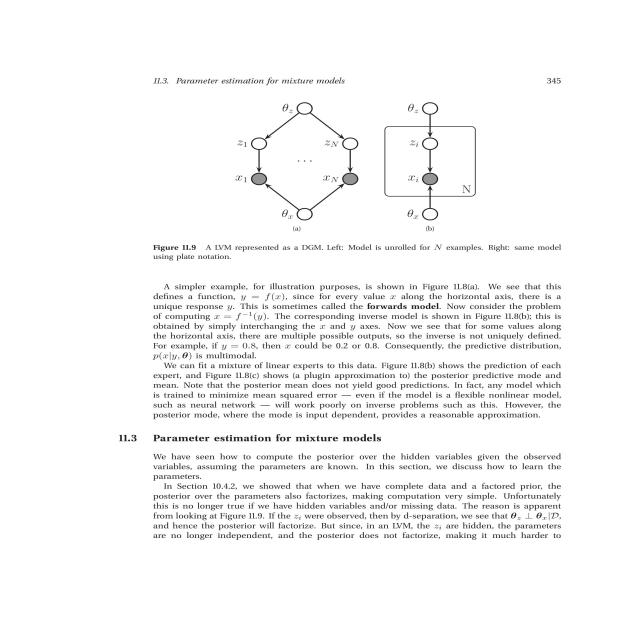diagram: (64, 88, 640, 281)
